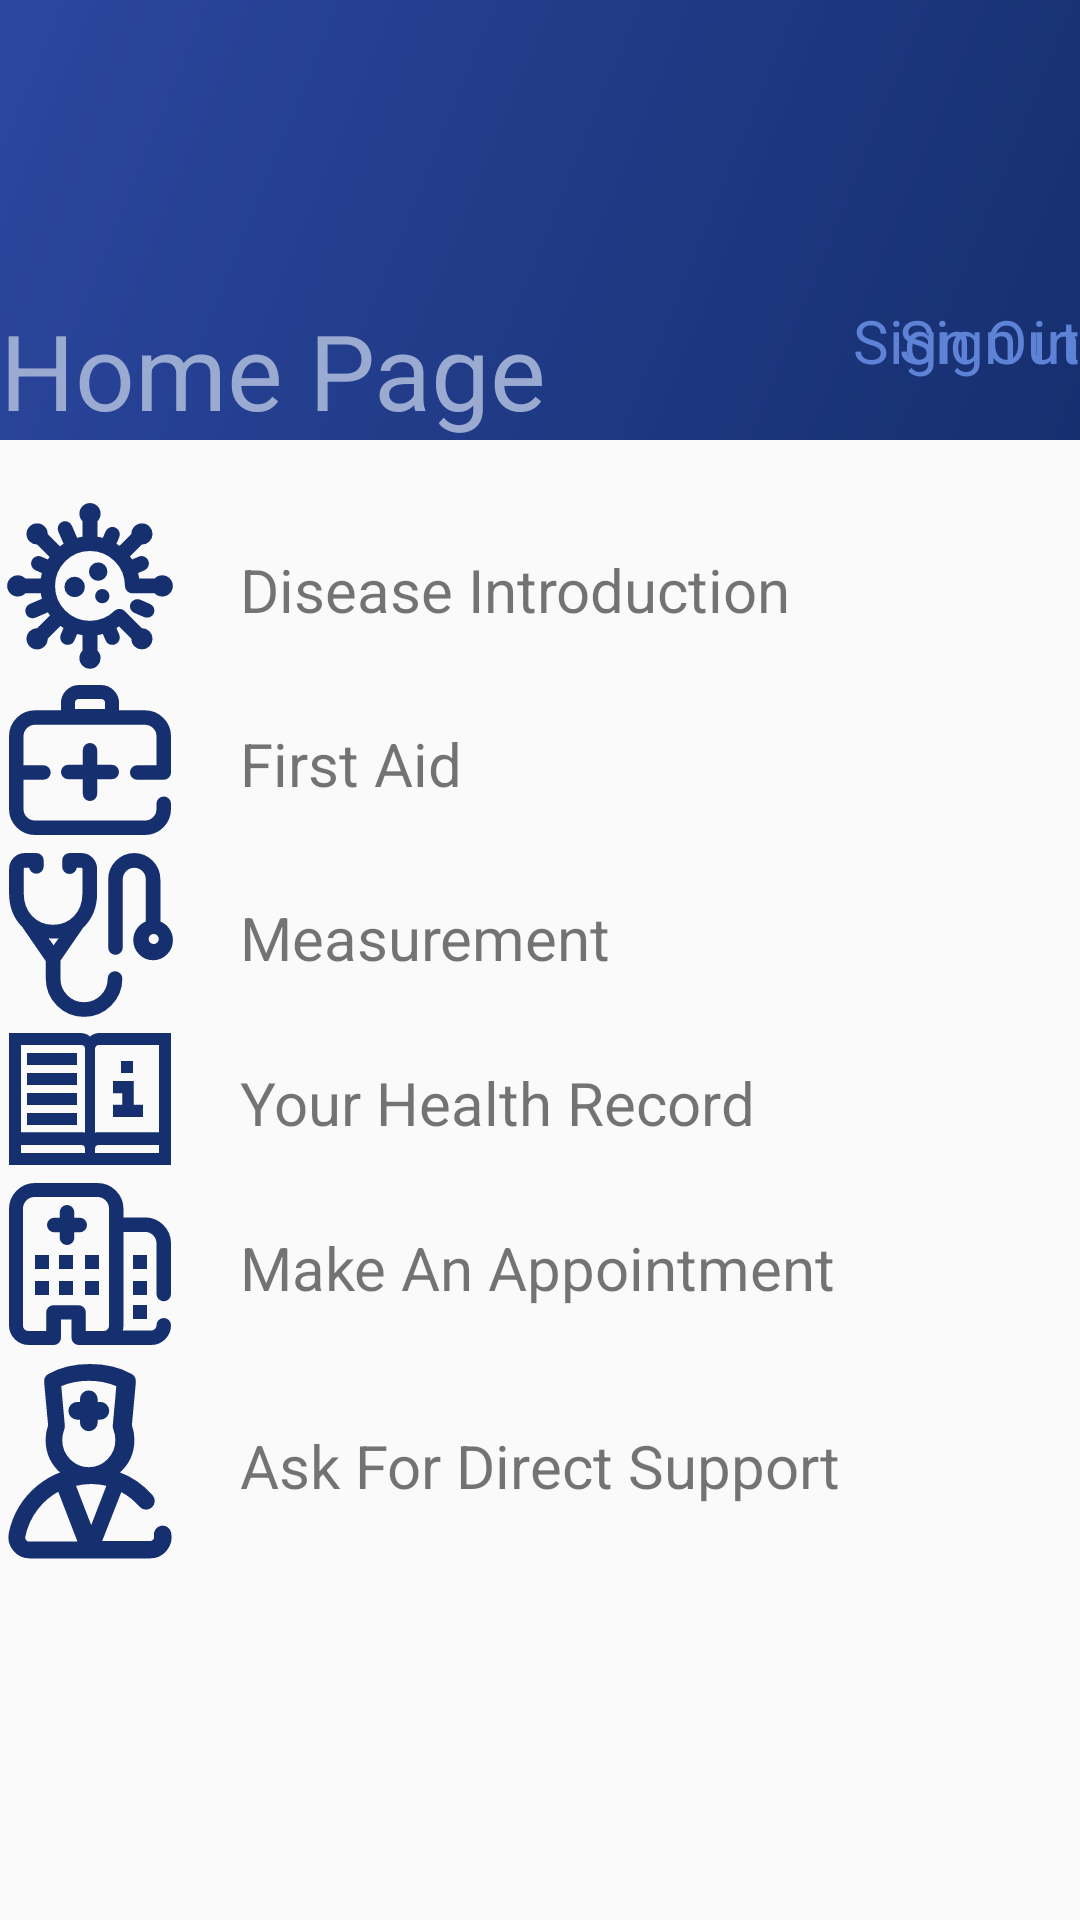

Where icons sit on this 1080 x 1920 app screen, as detection(x1, y1, x2, y2):
make appiontments: detection(9, 1183, 171, 1345)
service: detection(8, 1364, 172, 1559)
